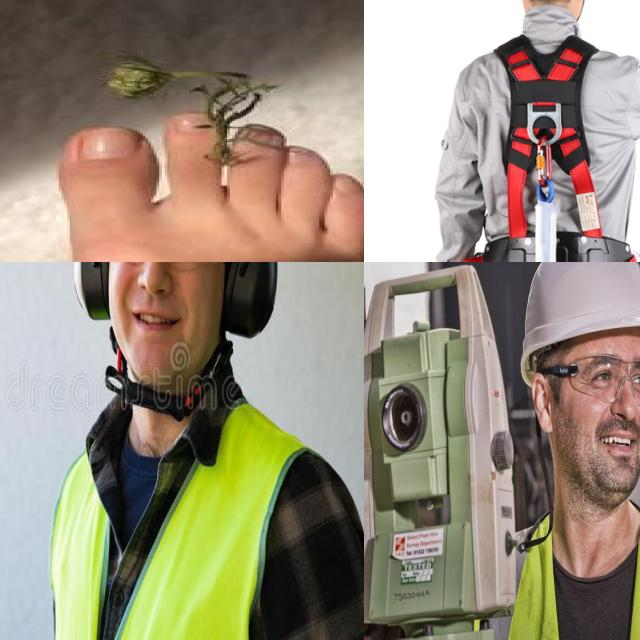Barefoots: (60, 112, 364, 262)
Harness: (492, 32, 640, 262)
No_Ear-Protection: (527, 368, 559, 438)
face_nomask: (550, 328, 640, 495), (100, 262, 237, 371)
glasses: (564, 354, 640, 408)
head_helmet: (521, 262, 640, 357)
person: (42, 262, 364, 640), (505, 262, 640, 640)
vest: (45, 392, 306, 640), (485, 511, 640, 640)
